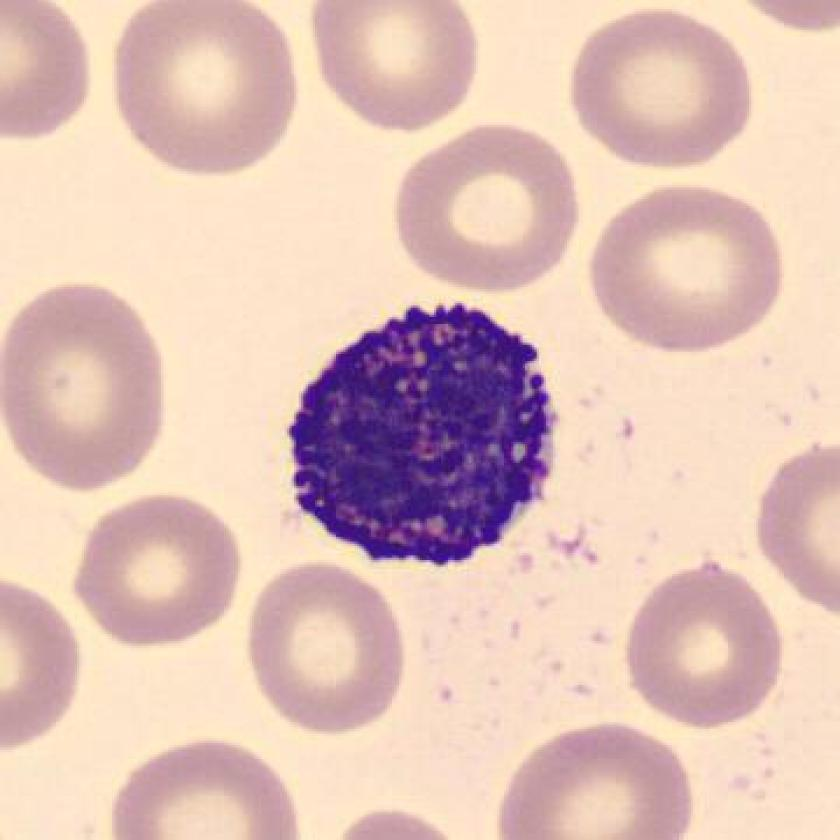basophil: (272, 290, 566, 584)
